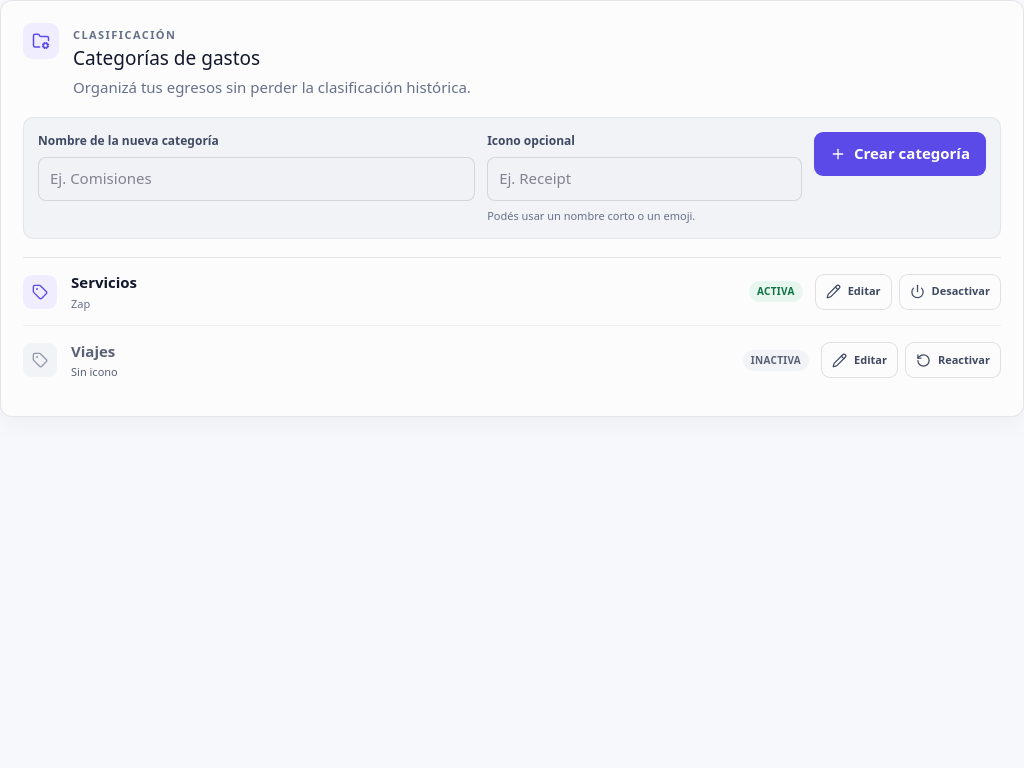
it: ExpenseCategoryManager › renames a category and updates its icon inline
The image size is (1024, 768).
Click the button with aria-label "Editar Servicios".
click(853, 292)  # box [815,274,892,310]
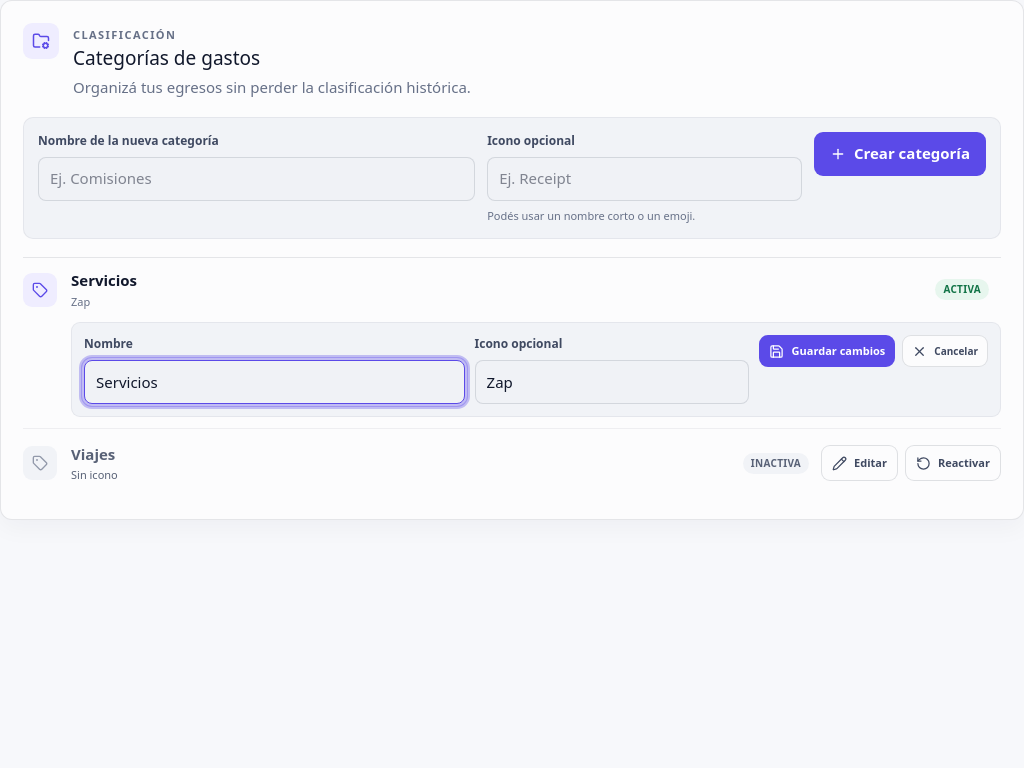
Replace the text in the field labelled "Nombre" with "Servicios públicos" at x=274, y=382, box [84,360,464,404]
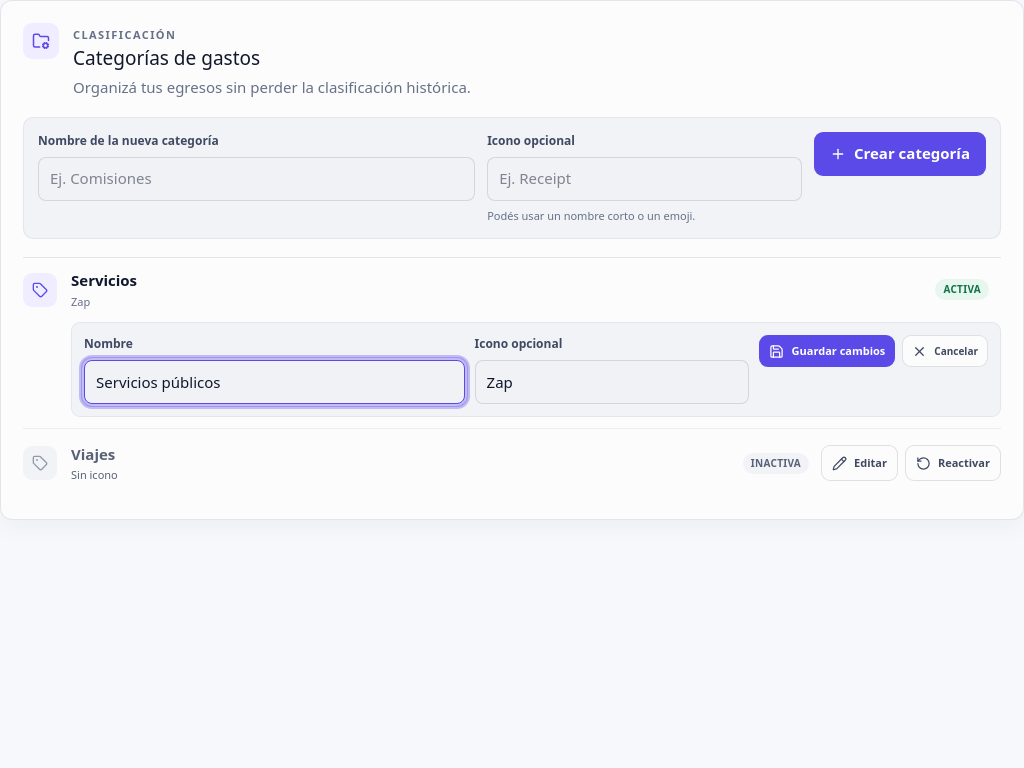
Replace the text in the 2nd field labelled "Icono opcional" with "Bolt" at x=612, y=382, box [474,360,748,404]
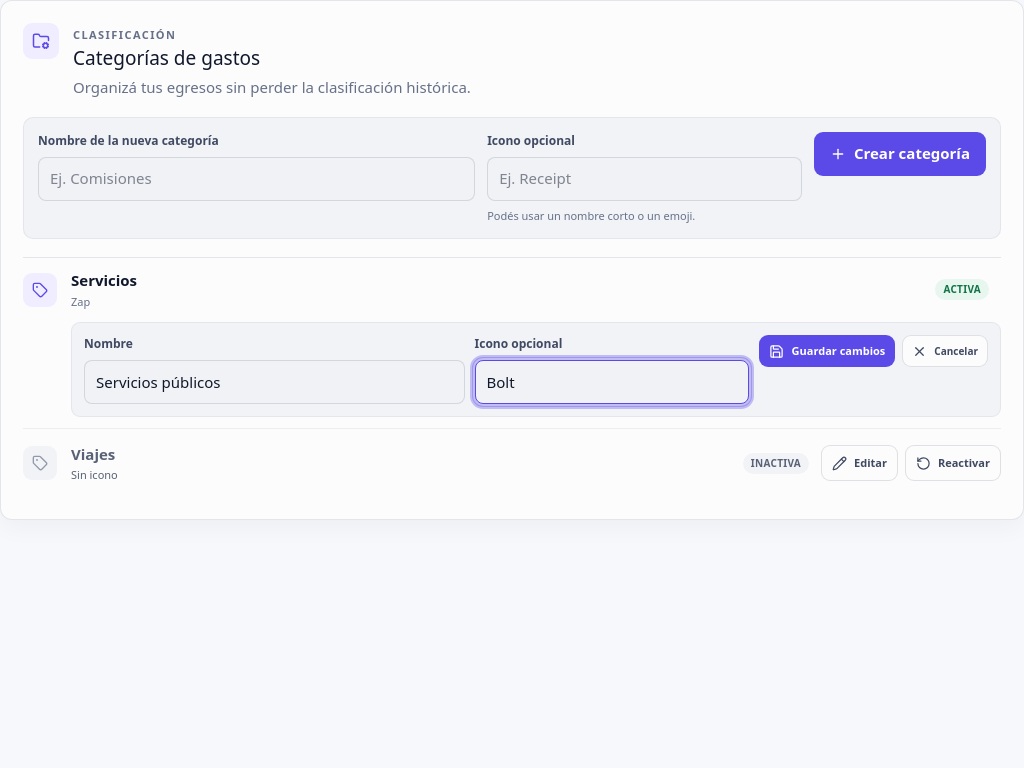
Click the button "Guardar cambios".
click(827, 351)  # box [759,335,895,367]
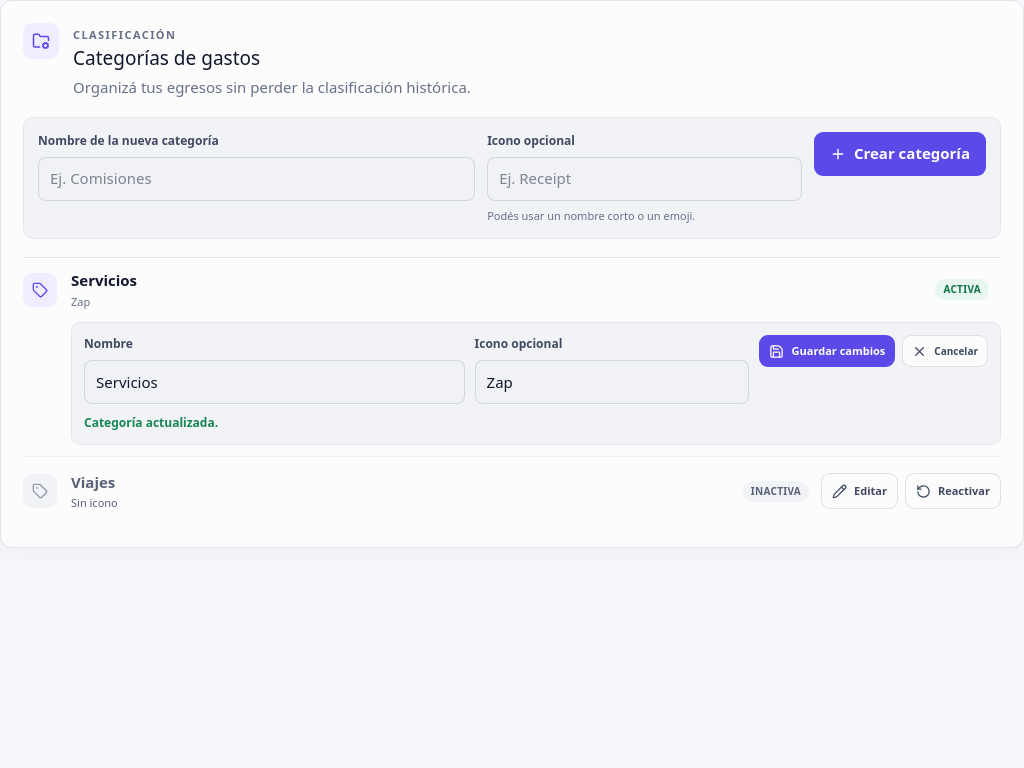
Now the message reads "Categoría actualizada.", box [84,414,218,431]
